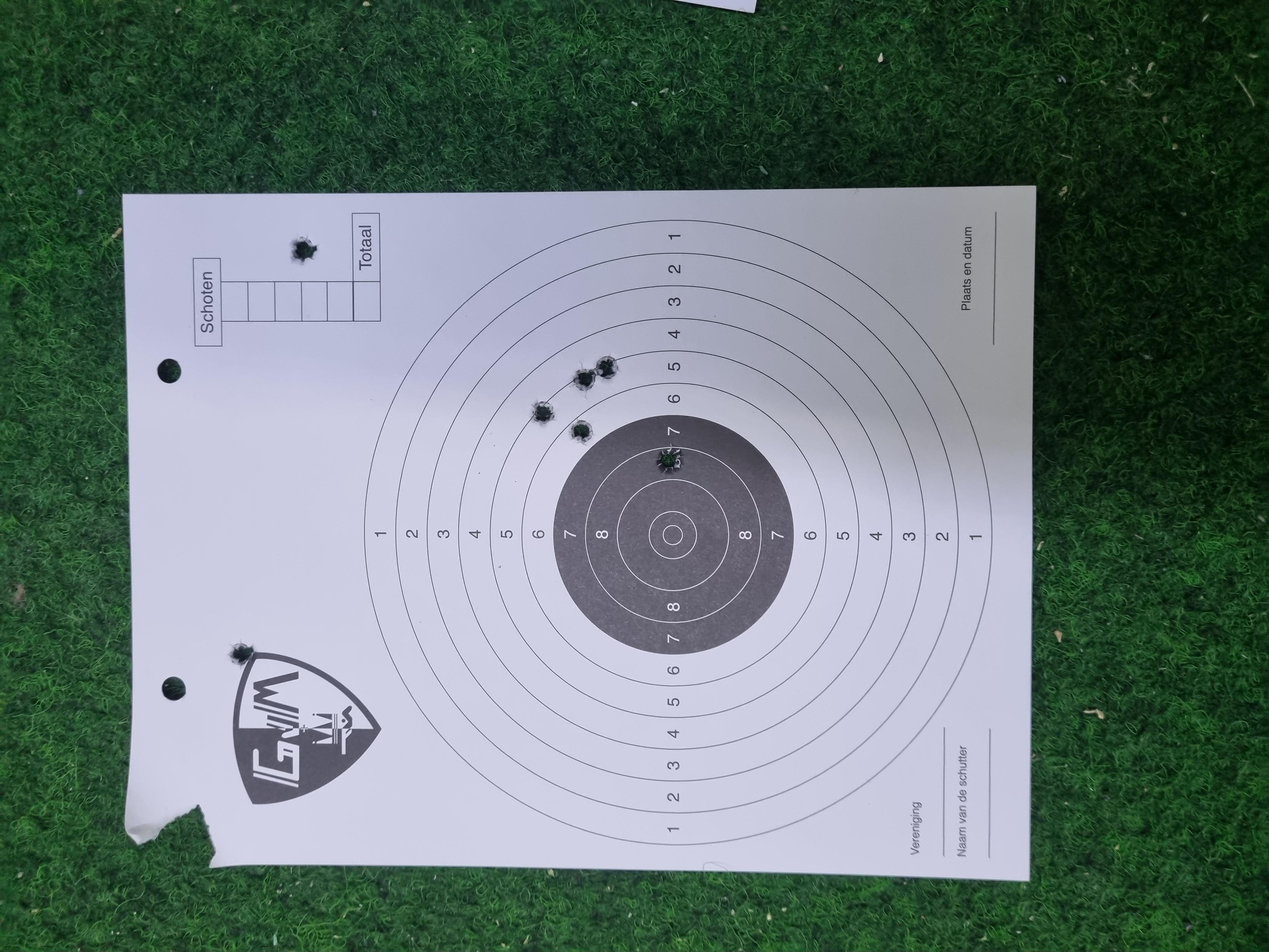hole: (637, 492, 678, 512), (747, 430, 780, 452), (920, 218, 954, 239), (702, 399, 737, 417), (676, 428, 709, 447), (381, 171, 414, 190), (763, 447, 795, 464)
